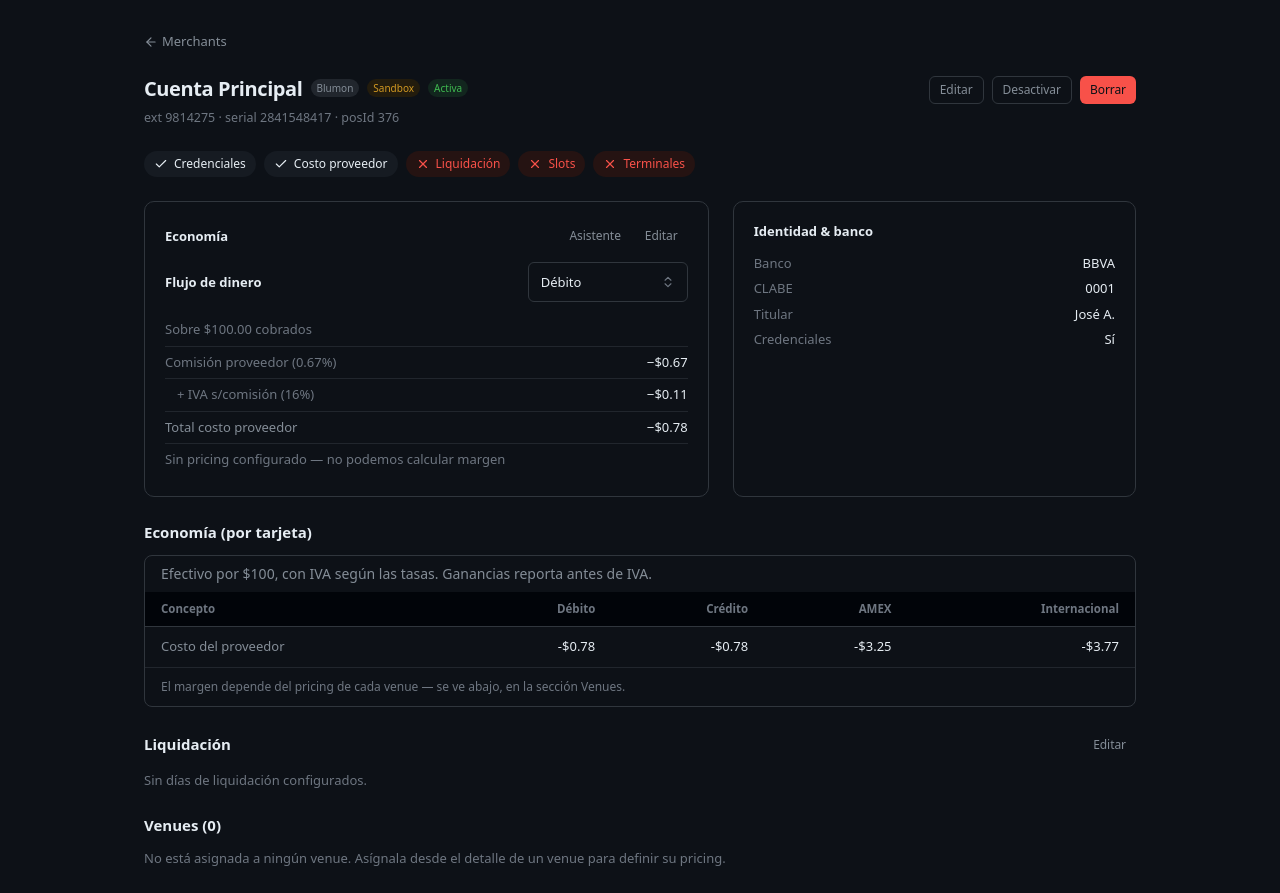
Scenario: MerchantDetailPage › Asistente de pricing con el costo cargando DESPUÉS que la cuenta › el paso 1 arranca con el costo GUARDADO (0.67 %, sin IVA), no con ceros
This screenshot has width=1280, height=893.
Expected: the heading "Cuenta Principal" is shown, [144,76,302,100]
Expected: the heading "Flujo de dinero" is shown, [165,272,261,292]
Click the button "Asistente".
click(595, 236)  # box [560,222,631,250]
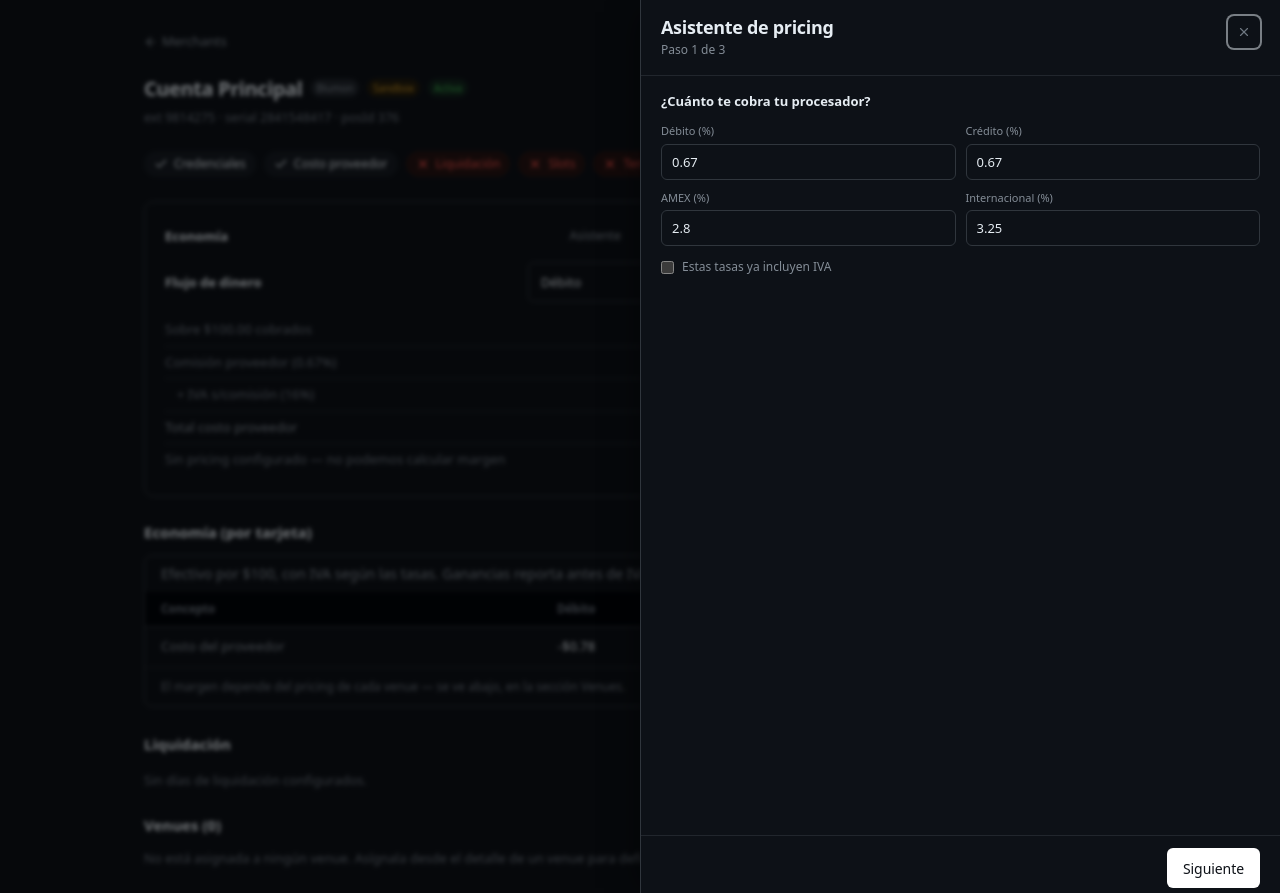
Now the heading "Asistente de pricing" is shown, box [661,15,834,39]
Now the field with id "wiz-cost-DEBIT" holds "0.67", box [661,144,956,180]
Now the field with id "wiz-cost-AMEX" holds "2.8", box [661,210,956,246]
